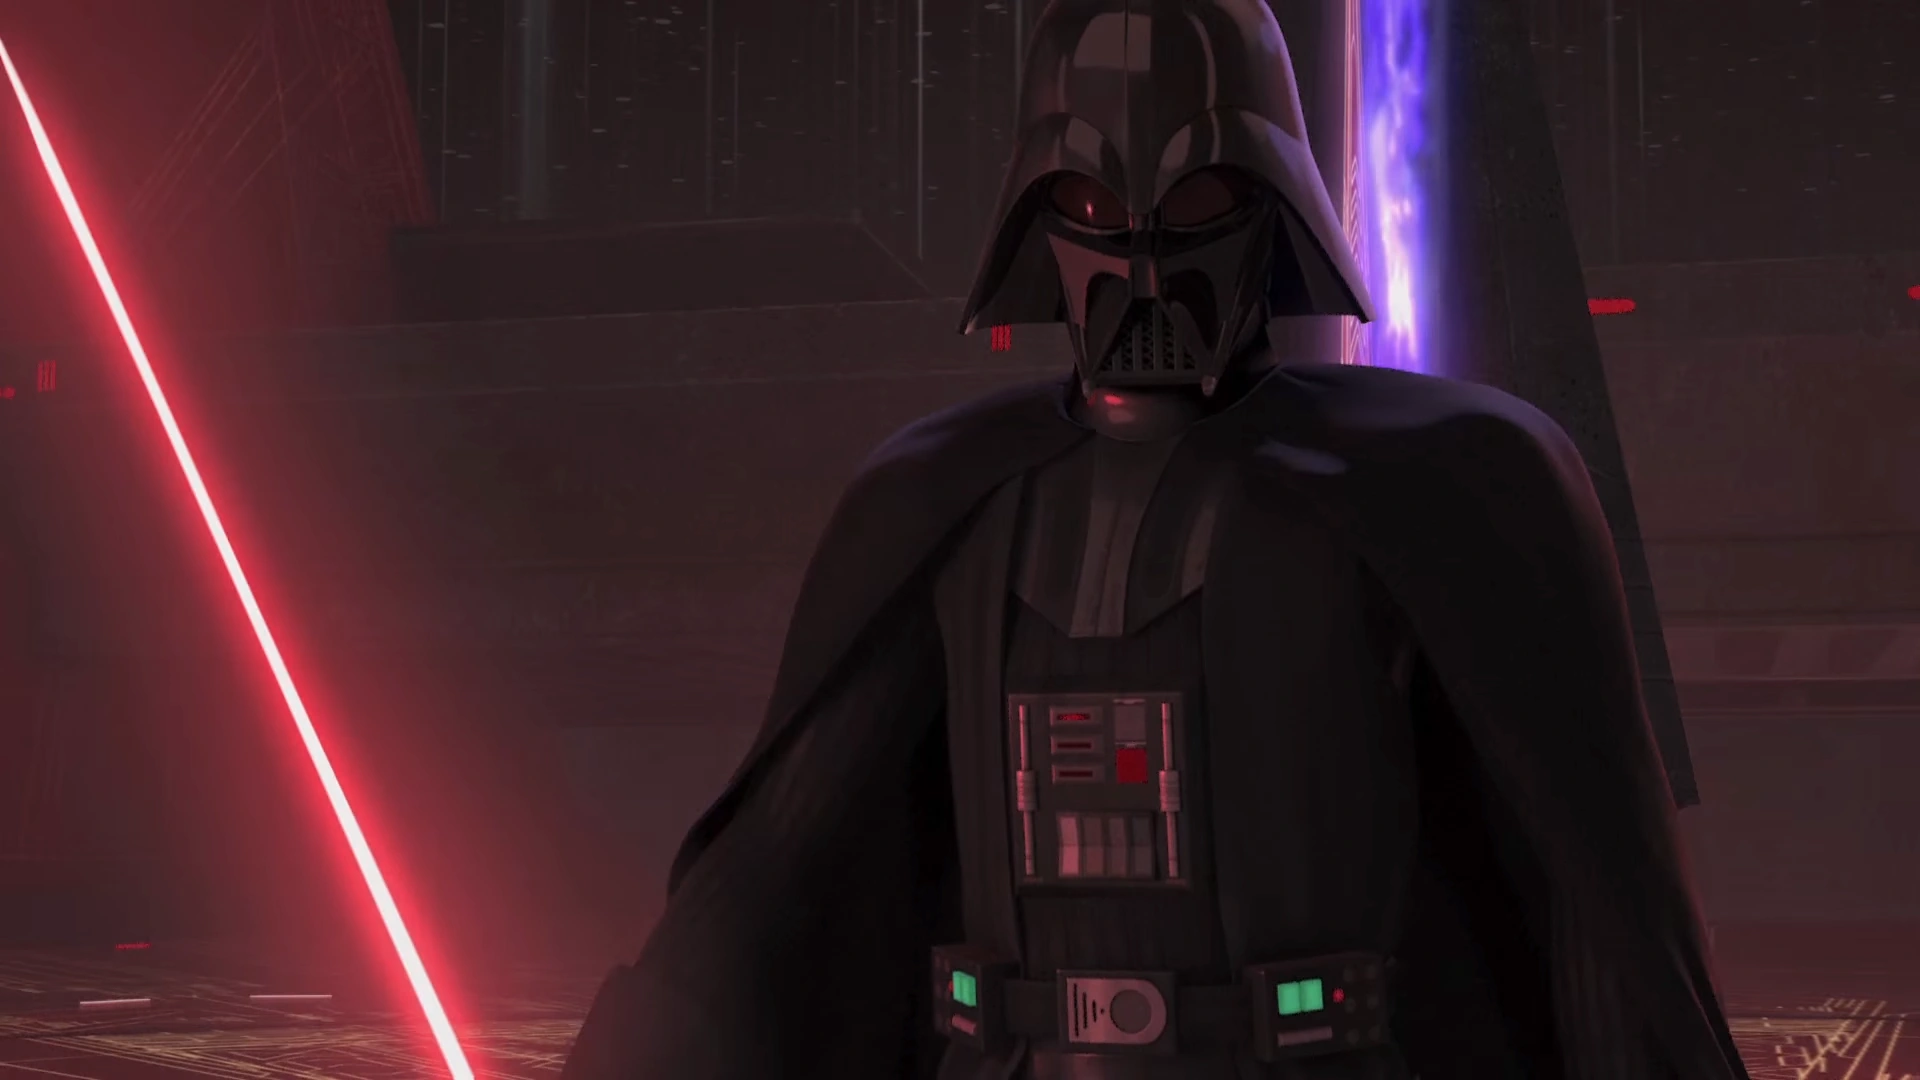cats: (0, 26, 491, 1076)
